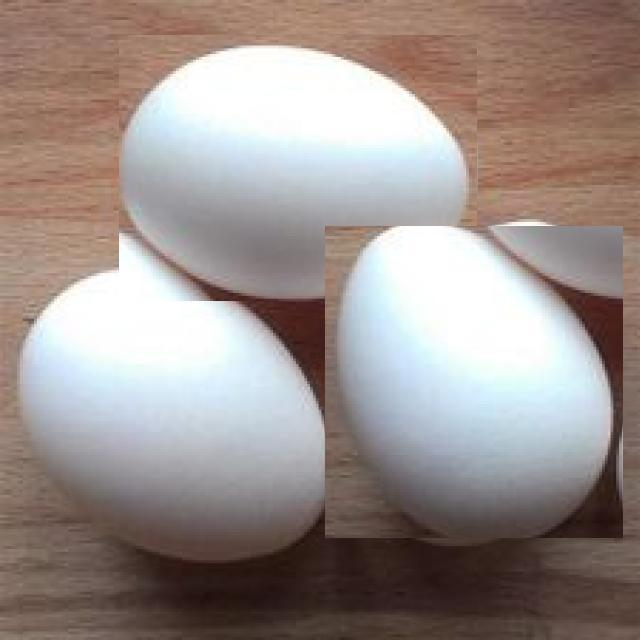Egg: (9, 264, 342, 581), (120, 35, 478, 301), (326, 226, 624, 538)
